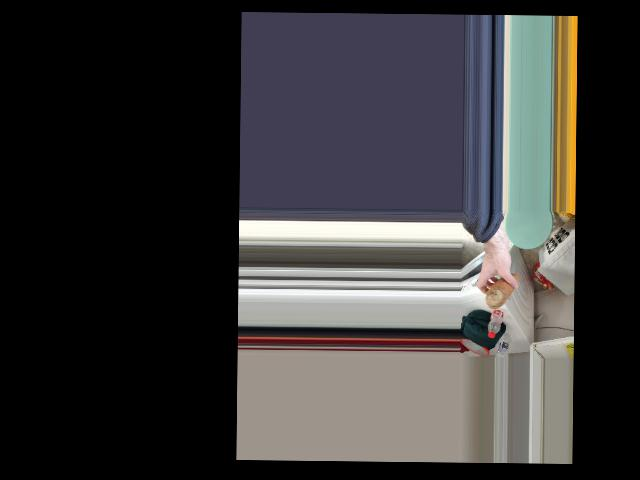sweet_potato: (488, 273, 520, 309)
